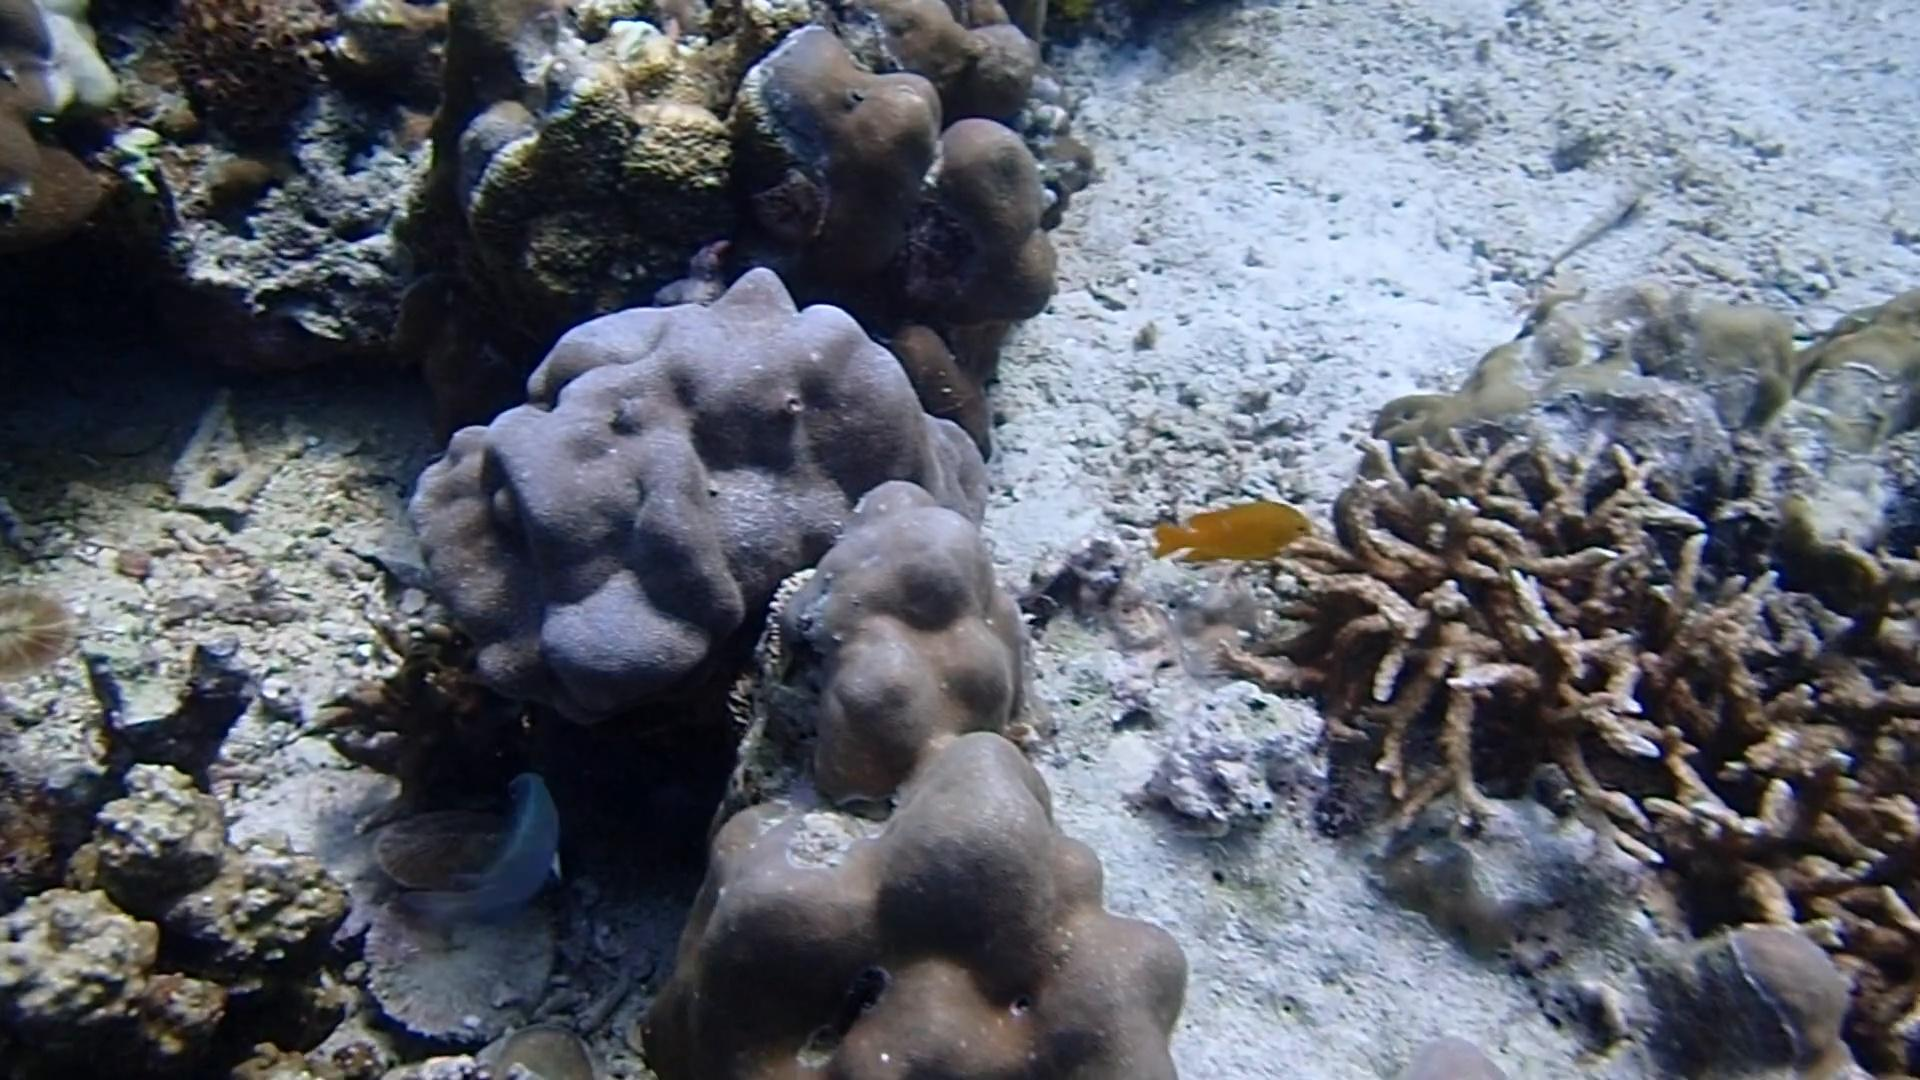Blue Fish Two: (385, 764, 583, 943)
Yellow Fish: (1139, 493, 1312, 570)
